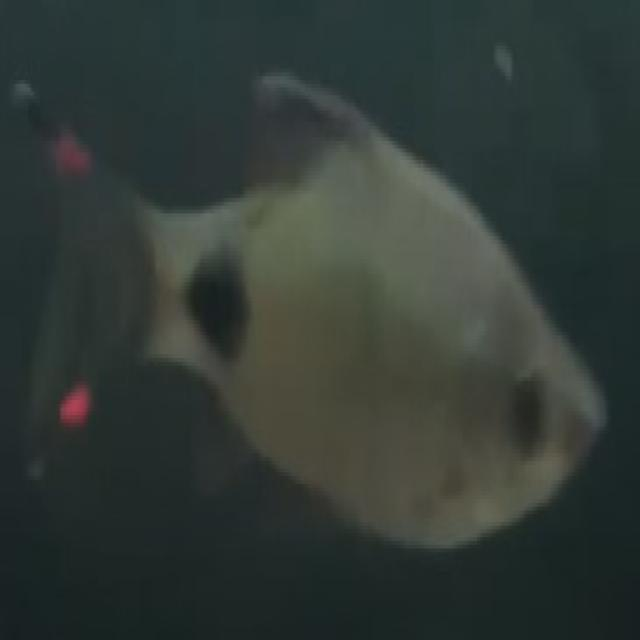Black-Spotted-Barb: (2, 30, 623, 576)
